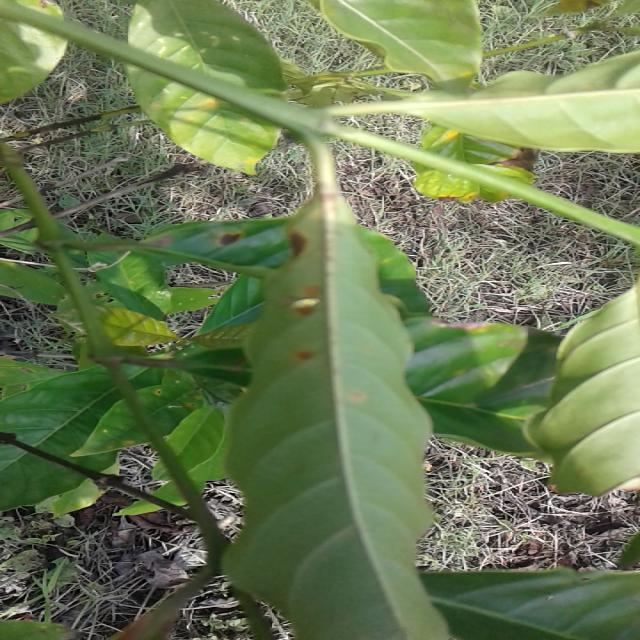Enfermedad-Roya: (224, 144, 453, 640)
